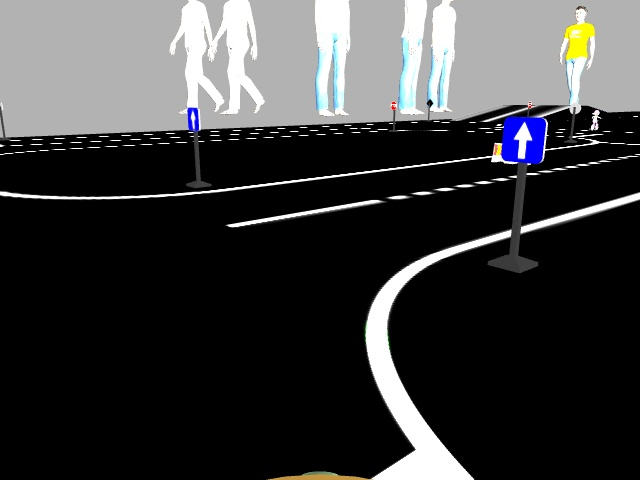OneWay: (503, 117, 544, 162), (184, 105, 199, 129)
